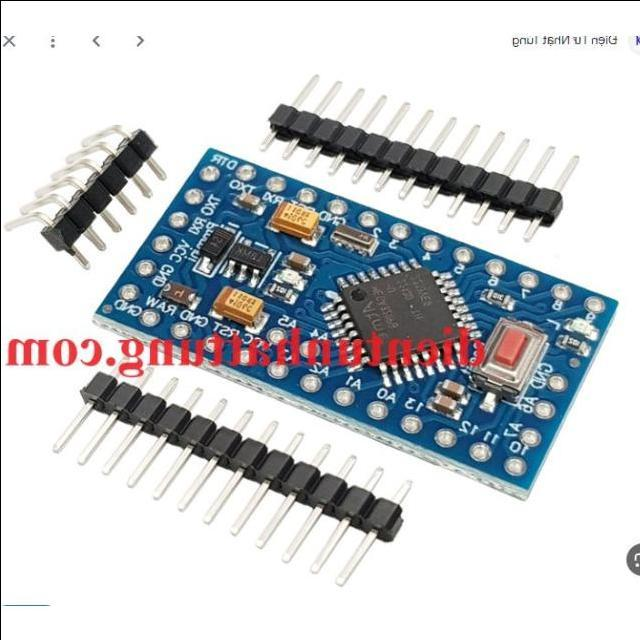Arduino-ProMini: (96, 150, 616, 499)
